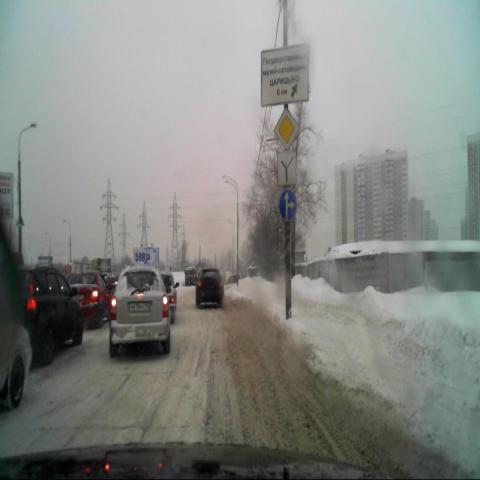2_1: (274, 102, 299, 152)
4_1_4: (279, 186, 298, 222)
